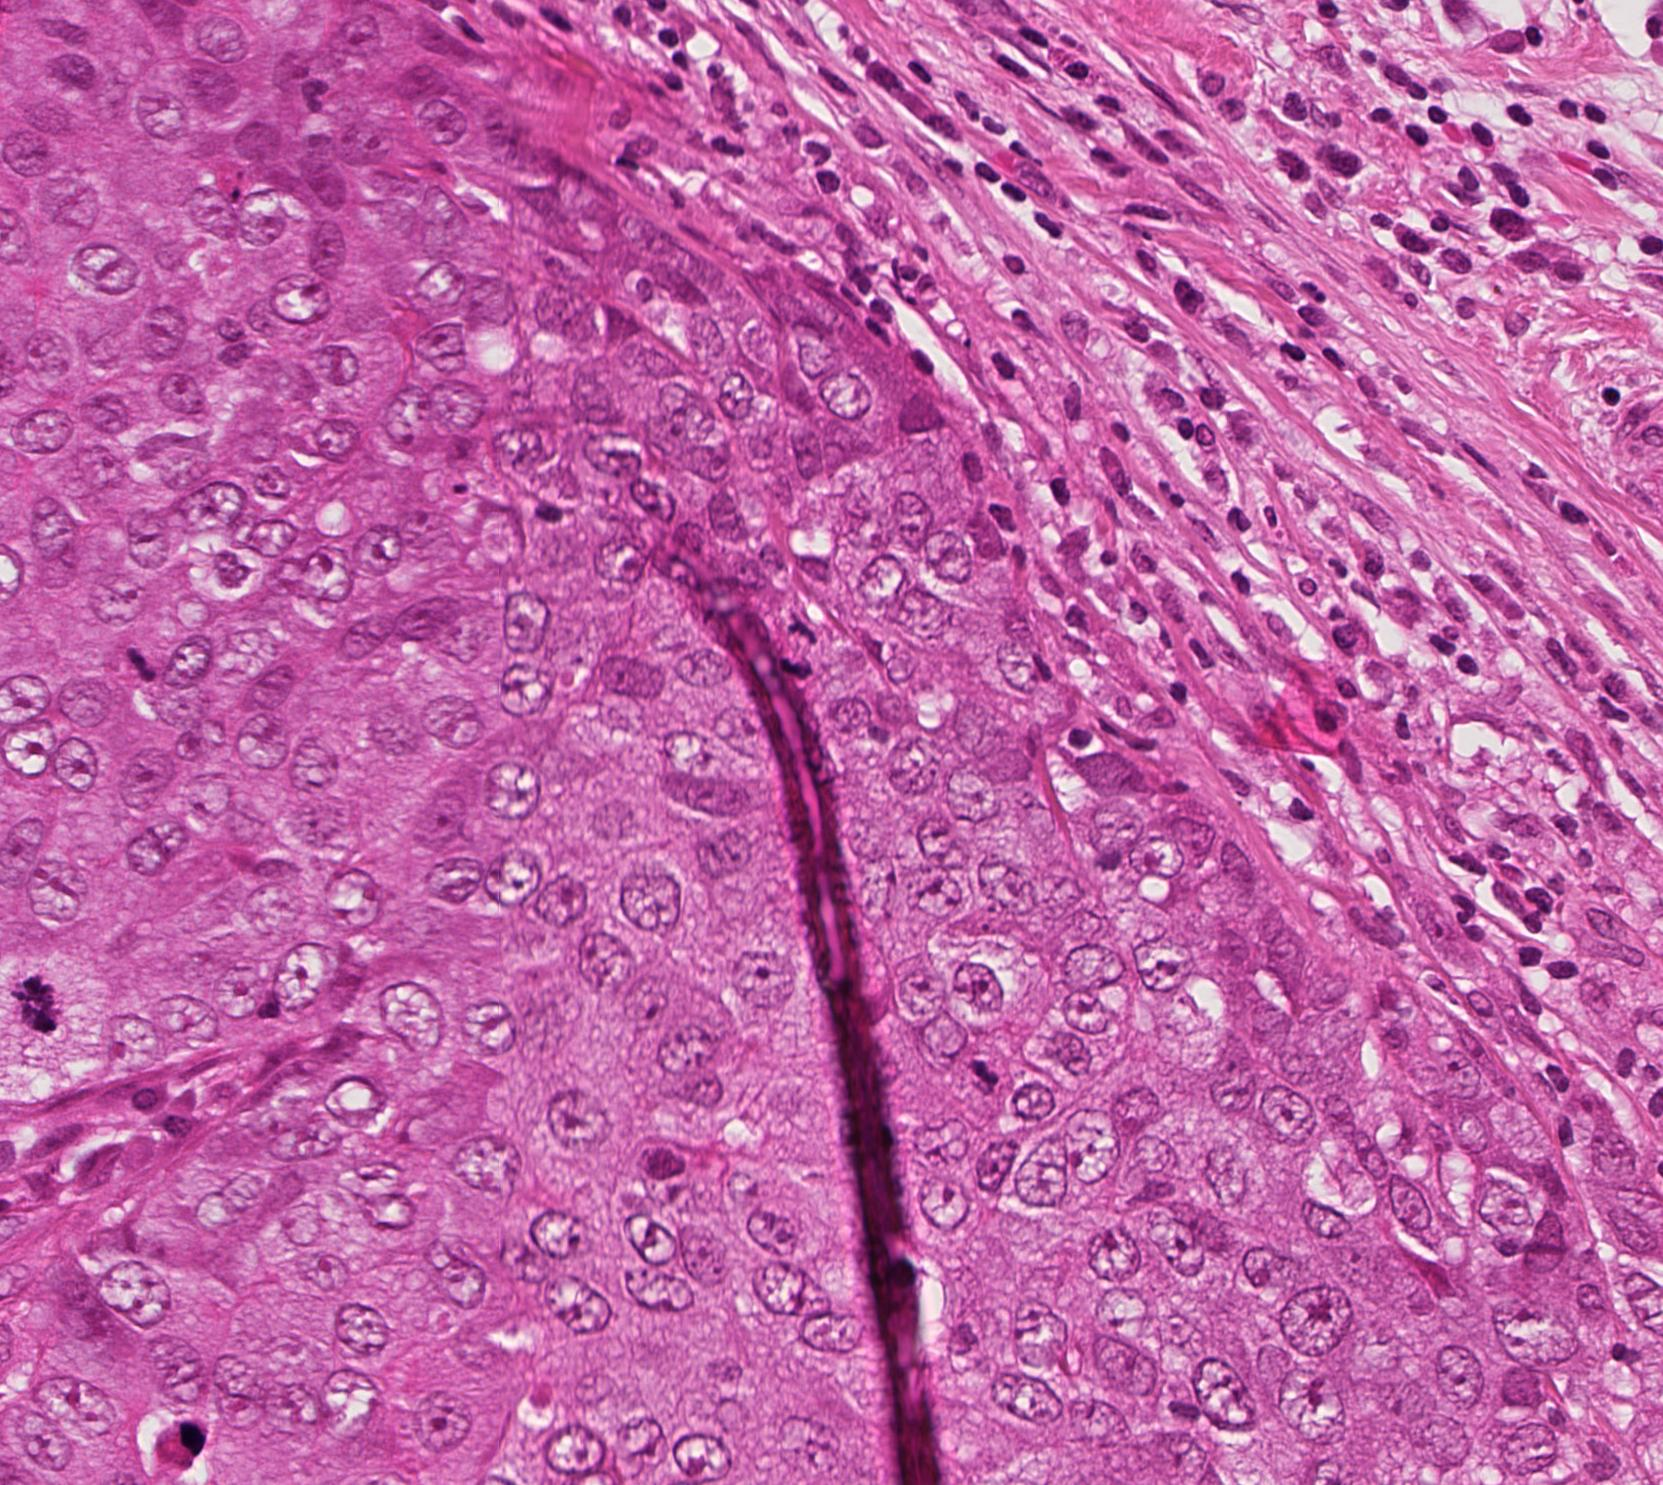mitosis: (102, 629, 162, 689), (1075, 836, 1135, 896), (768, 618, 829, 678), (949, 1044, 1009, 1104), (9, 975, 67, 1035)
